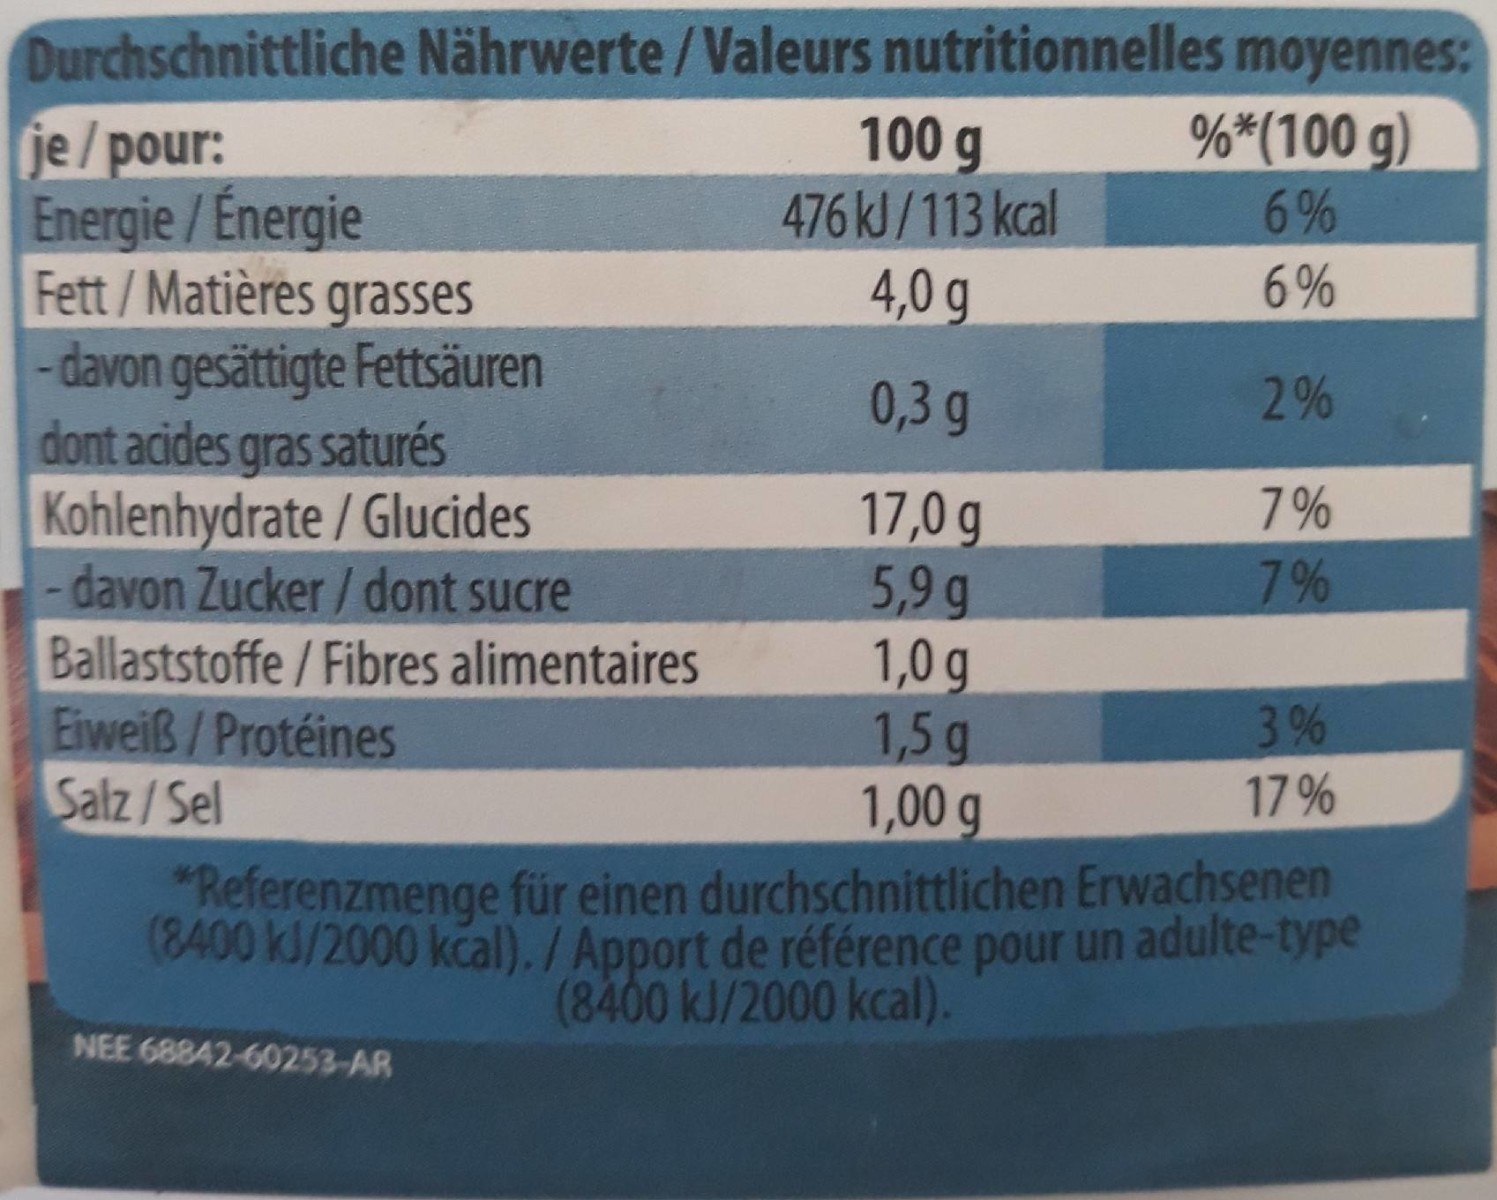column: (13, 121, 701, 839), (785, 118, 1058, 838), (1182, 91, 1413, 827)
table: (13, 12, 1490, 842)
